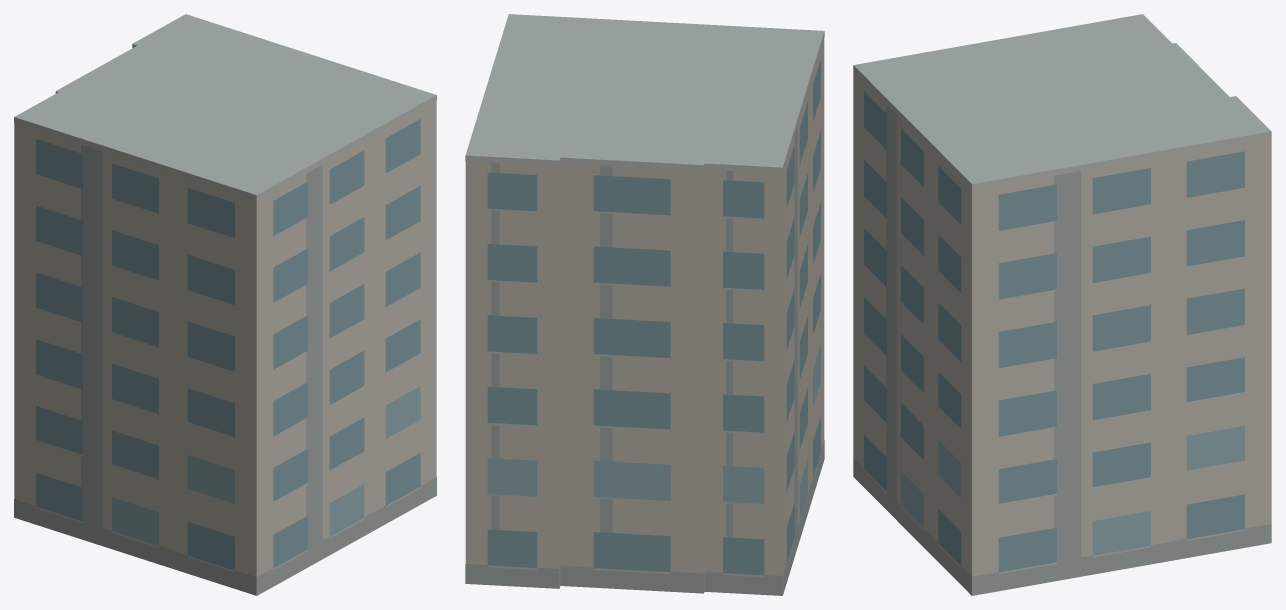
The model's file is survey-upis-32620431.glb.
The picture shows the model from 3 angles, left to right: view 1: azimuth 30°, elevation 25°; view 2: azimuth 150°, elevation 25°; view 3: azimuth 270°, elevation 25°; orthographic projection. The views are drawn at different scales.
Visible parts, largest first — view 1: survey-upis-32620431.tmp; view 2: survey-upis-32620431.tmp; view 3: survey-upis-32620431.tmp.
Part boxes in pixels (x1=…): survey-upis-32620431.tmp: x1=14, y1=14, x2=436, y2=595; survey-upis-32620431.tmp: x1=465, y1=14, x2=824, y2=595; survey-upis-32620431.tmp: x1=853, y1=14, x2=1271, y2=595.
Size of the model in its own units: 14.9 by 16.8 by 15.47.
